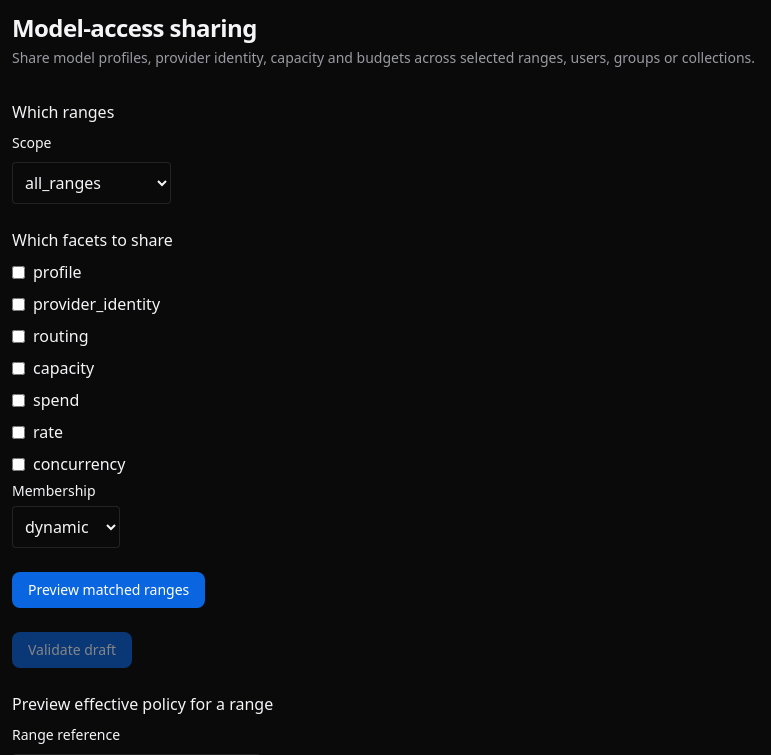
it: ModelAccessSharing › previews matched ranges for the composed selector
The width and height of the screenshot is (771, 755).
Click the button "Preview matched ranges": click(109, 590) [12, 572, 205, 608]
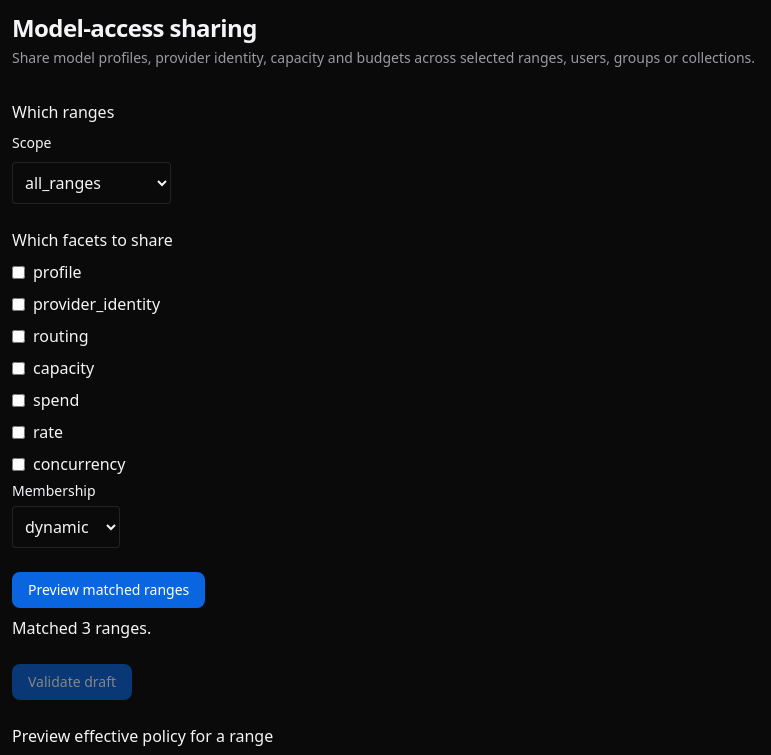
Expected: the text "Matched 3 ranges." is shown, [12, 617, 151, 639]
